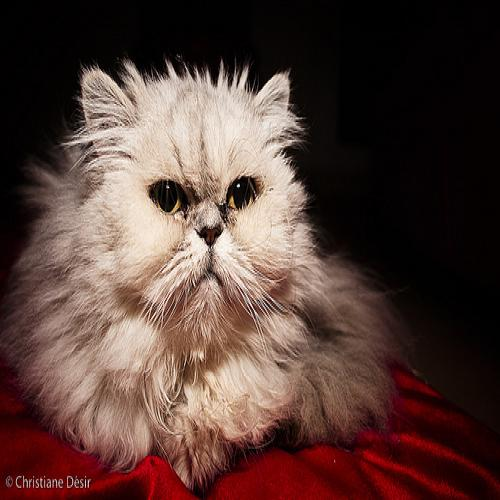persian: (55, 48, 336, 360)
